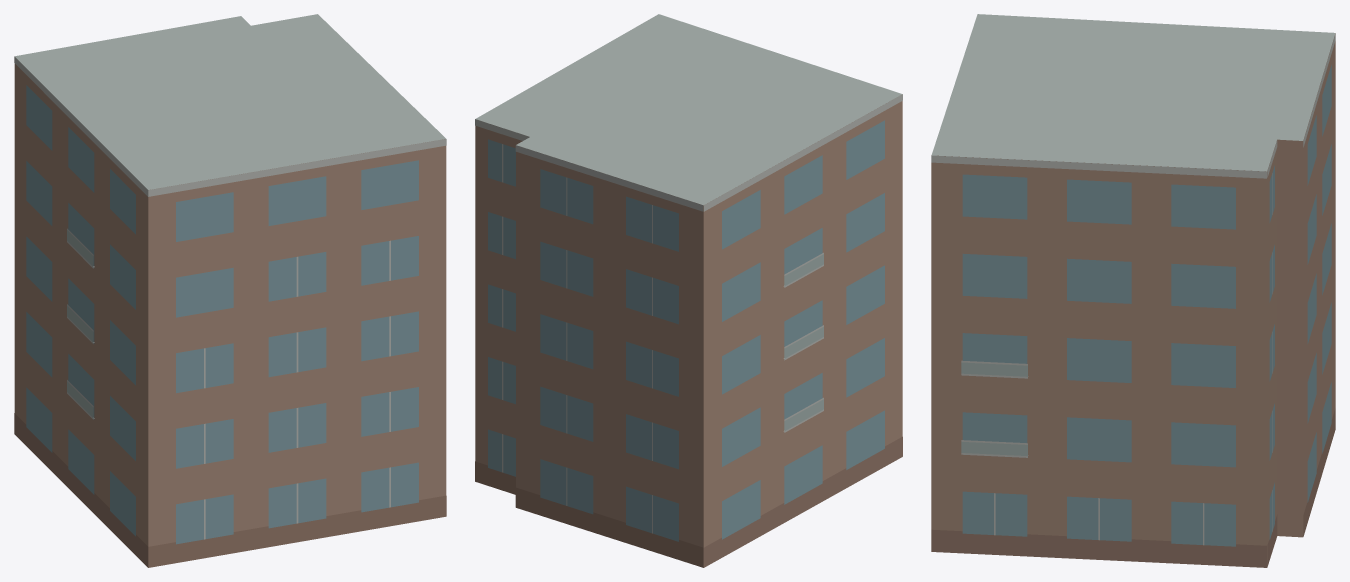
Rendered from survey-upis-32812991.glb.
3 views of the same model, side by side, from view 1: azimuth 30°, elevation 25°; view 2: azimuth 150°, elevation 25°; view 3: azimuth 270°, elevation 25° (orthographic). The views are drawn at different scales.
Parts seen in each view (by area): view 1: survey-upis-32812991.tmp; view 2: survey-upis-32812991.tmp; view 3: survey-upis-32812991.tmp.
Part boxes in pixels (left/top/right/bottom): survey-upis-32812991.tmp: left=14, top=14, right=446, bottom=567; survey-upis-32812991.tmp: left=475, top=14, right=902, bottom=567; survey-upis-32812991.tmp: left=931, top=14, right=1335, bottom=567.
Bounding box in the file's own units: 11.51 × 13.5 × 12.48.
